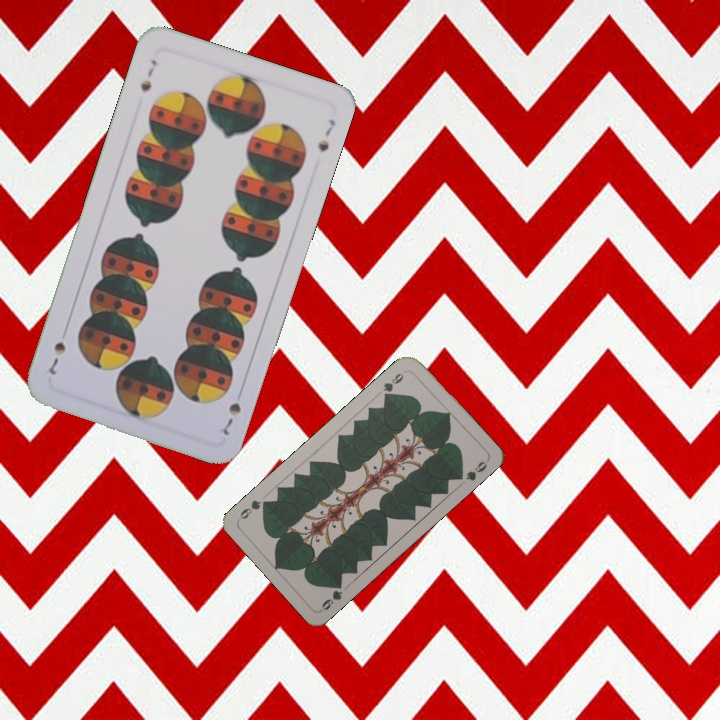G9: (379, 366, 409, 401), (317, 577, 345, 614)
S7: (217, 398, 244, 438), (136, 55, 160, 94)
